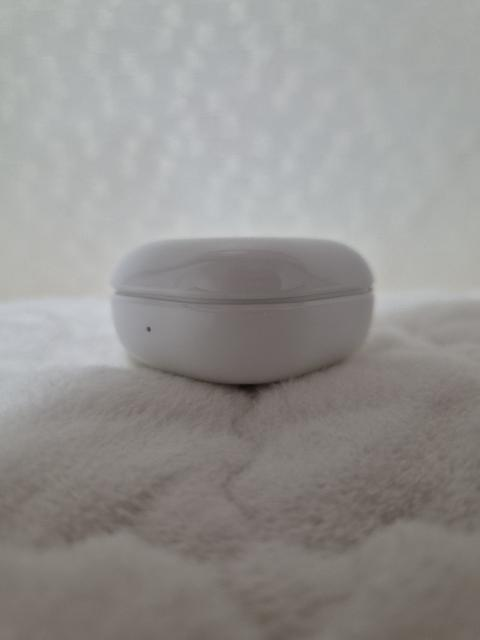earphone_case: (110, 236, 375, 385)
